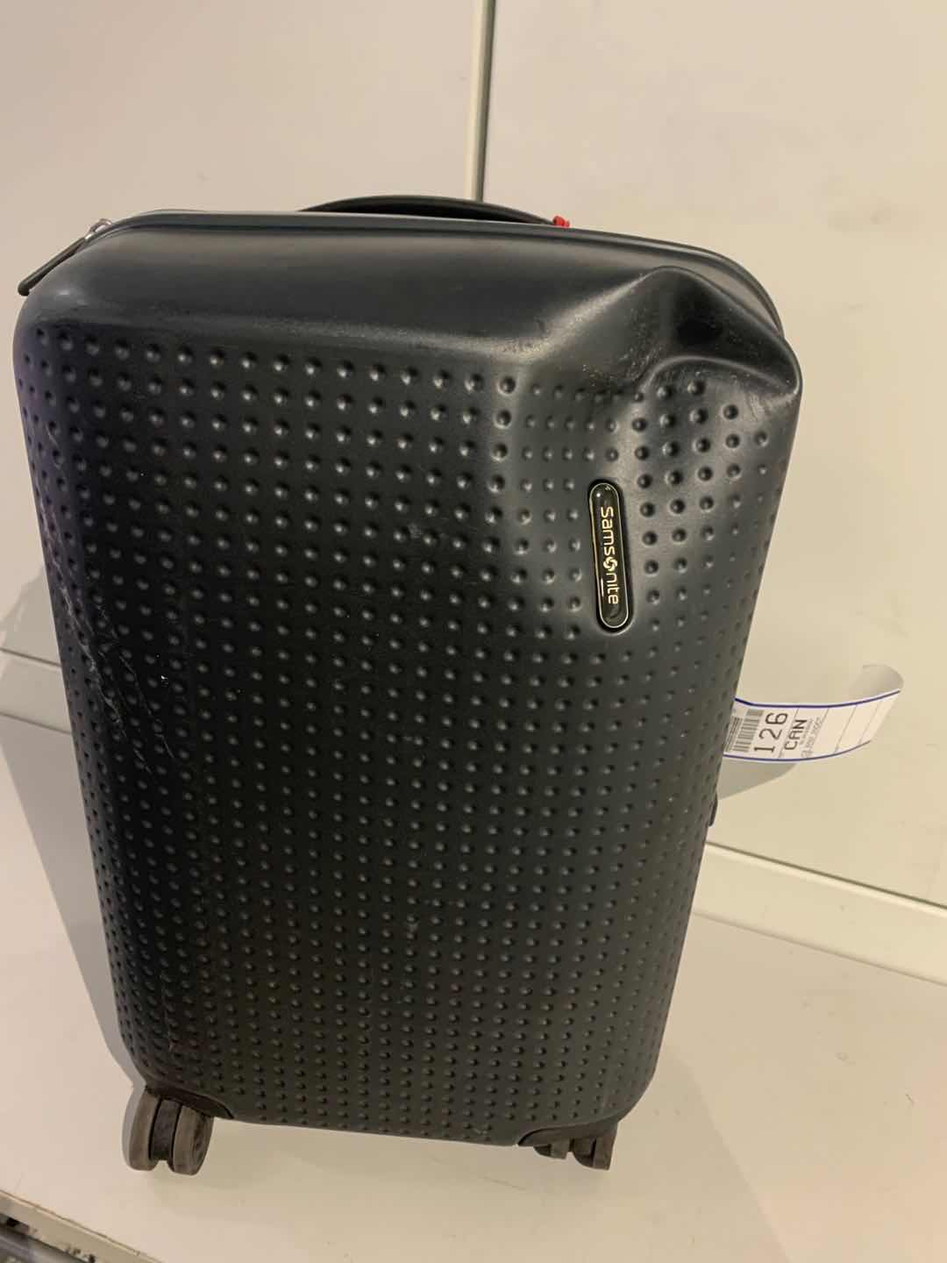rupture: (505, 265, 802, 626)
